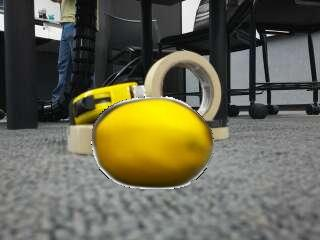lemon: (94, 99, 210, 186)
